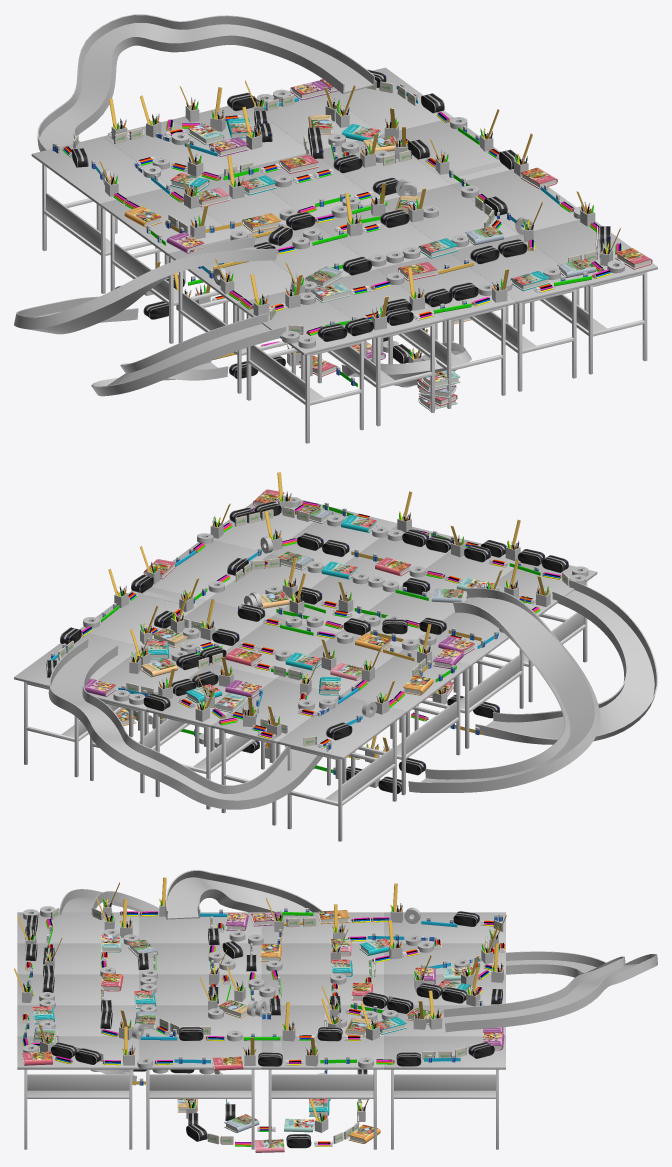
File: track1.fbx
3 views of the same model, one above another, from view 1: azimuth 30°, elevation 25°; view 2: azimuth 150°, elevation 25°; view 3: azimuth 270°, elevation 25° (orthographic). The views are drawn at different scales.
Parts seen in each view (by area): view 1: Meja, naik3, naik2, naik1, naik4; view 2: Meja, naik2, naik3, naik1; view 3: Meja, naik3, naik2, naik1.
Part boxes in pixels (<box>): Meja: <box>31,67,657,443</box>; naik3: <box>37,14,374,151</box>; naik2: <box>14,236,277,334</box>; naik1: <box>91,313,286,396</box>; naik4: <box>341,342,471,386</box>; Meja: <box>14,495,597,841</box>; naik2: <box>408,588,600,792</box>; naik3: <box>48,638,322,809</box>; naik1: <box>475,579,657,744</box>; Meja: <box>17,912,505,1149</box>; naik3: <box>443,951,657,1032</box>; naik2: <box>165,870,322,919</box>; naik1: <box>59,889,159,914</box>.
Size of the model in its own units: 424 by 111 by 527.
